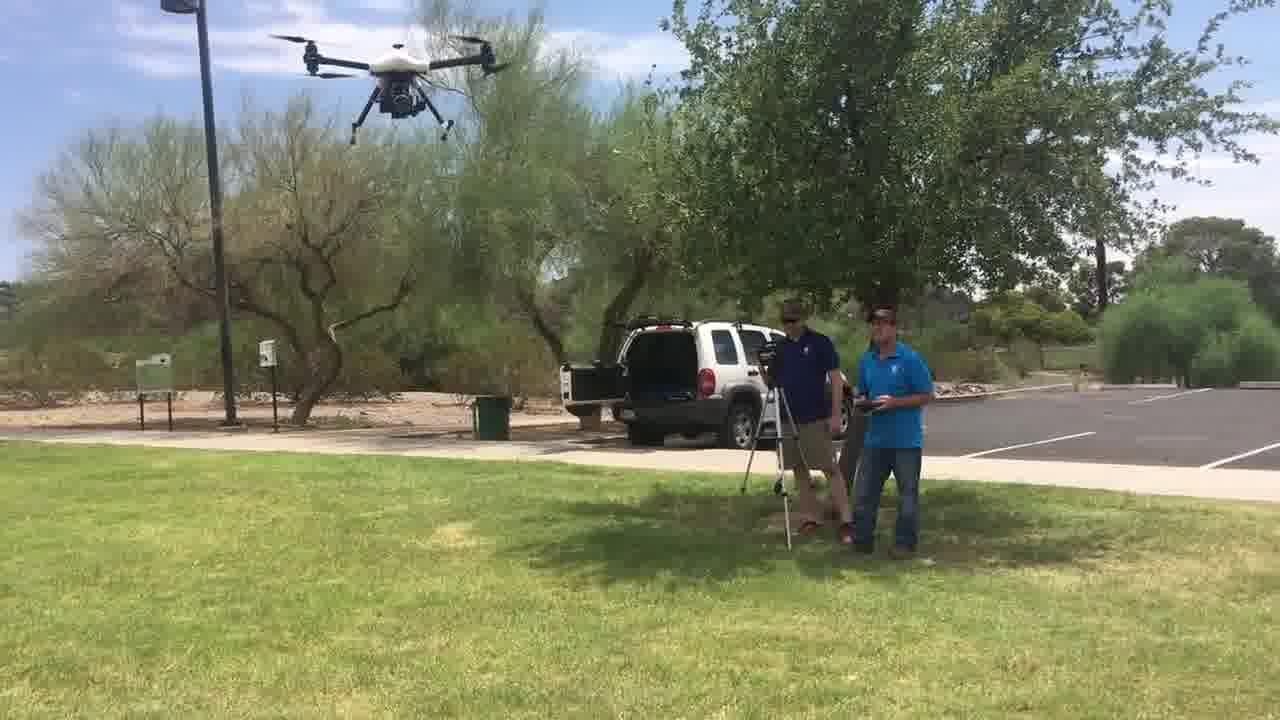drone: (271, 23, 507, 157)
